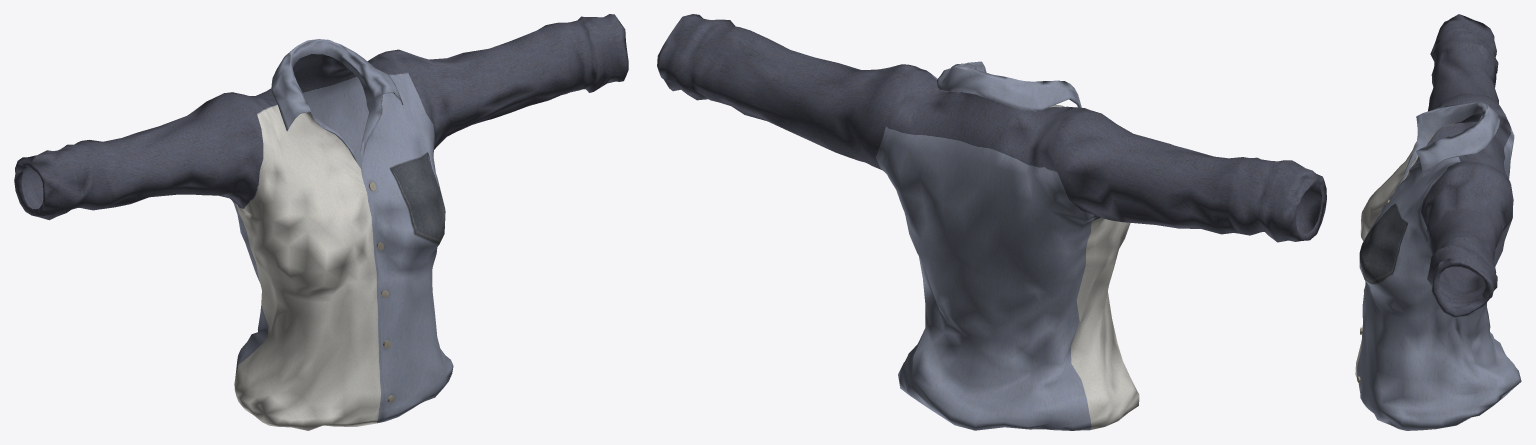
The picture shows the model from 3 angles, left to right: view 1: azimuth 30°, elevation 25°; view 2: azimuth 150°, elevation 25°; view 3: azimuth 270°, elevation 25°; orthographic projection. The views are drawn at different scales.
Visible parts, largest first — view 1: 1; view 2: 1; view 3: 1.
Part boxes in pixels (bbox=[...]): 1: bbox=[14, 14, 628, 430]; 1: bbox=[657, 14, 1326, 430]; 1: bbox=[1355, 14, 1521, 430].
Bounding box in the file's own units: 102 × 55.28 × 28.51.
Materials: 1 (1 with a texture image).
